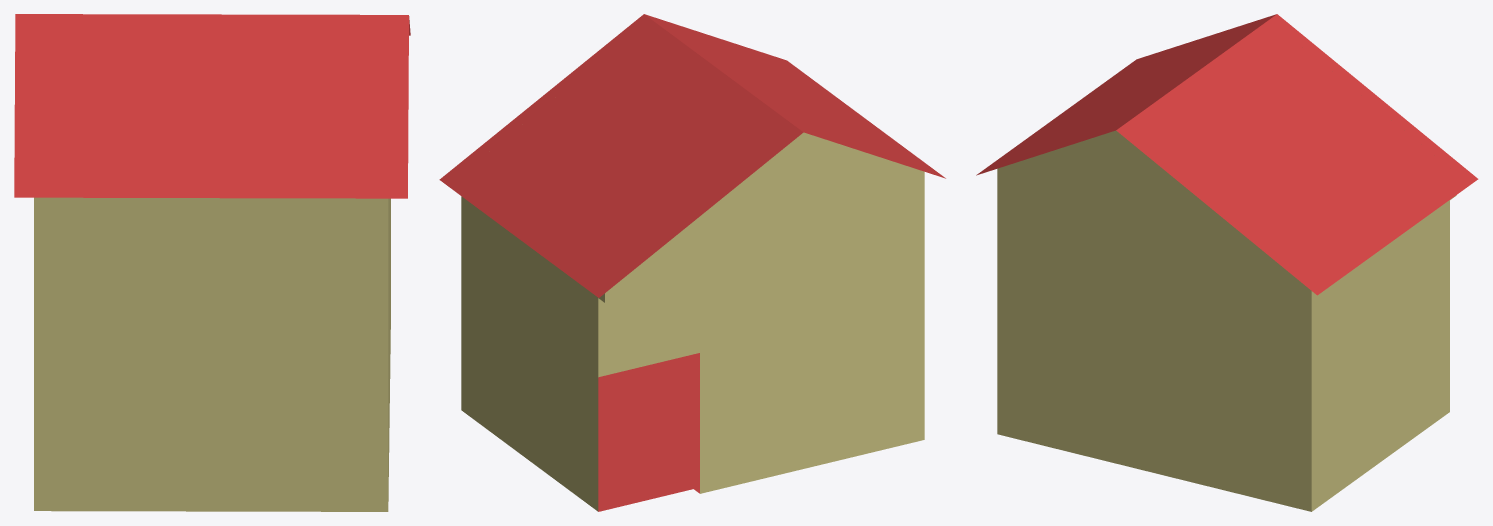
3 renders of one model, left to right at view 1: azimuth 30°, elevation 25°; view 2: azimuth 150°, elevation 25°; view 3: azimuth 270°, elevation 25°, orthographic. The views are drawn at different scales.
Bounding box in the file's own units: 14.88 × 15.74 × 11.77.
